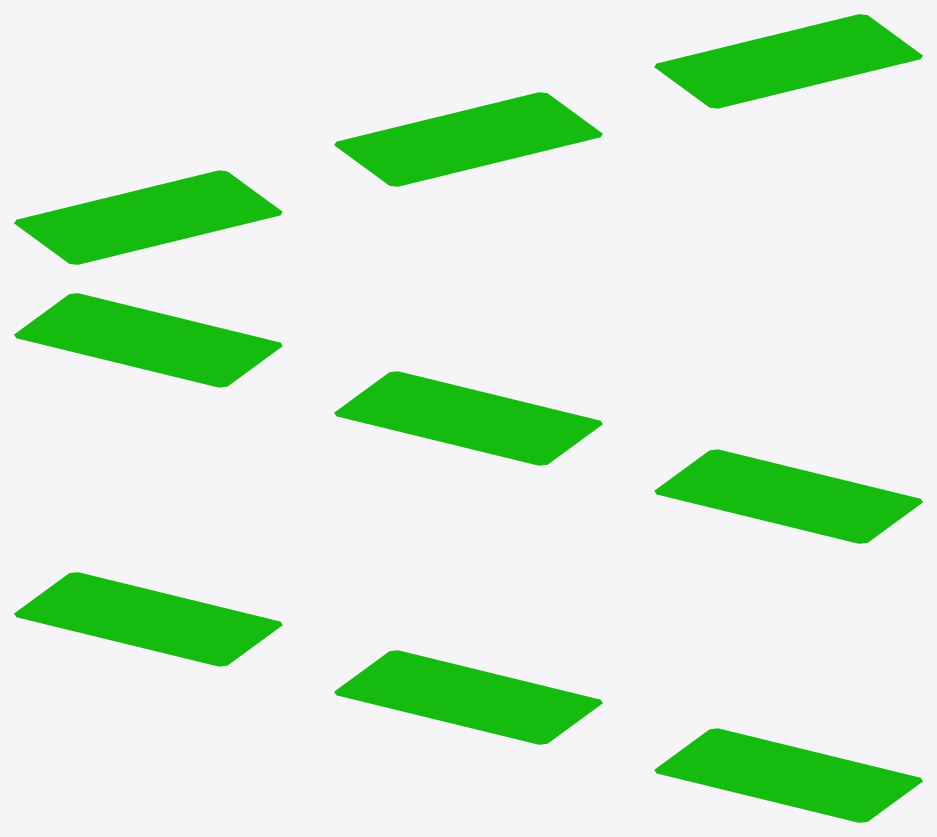
File: Decal_Dots_A.fbx
The picture shows the model from 3 angles, top to bottom: view 1: azimuth 30°, elevation 25°; view 2: azimuth 150°, elevation 25°; view 3: azimuth 330°, elevation 25°; orthographic projection.
Visible parts, largest first — view 1: Decal_ThreeDots; view 2: Decal_ThreeDots; view 3: Decal_ThreeDots.
Boxes of the visible parts, box(x1,y1,x2,y2) form: Decal_ThreeDots: box(14, 14, 922, 264); Decal_ThreeDots: box(14, 293, 922, 543); Decal_ThreeDots: box(14, 572, 922, 822).
Bounding box in the file's own units: 800 × 1.63e-05 × 100.
